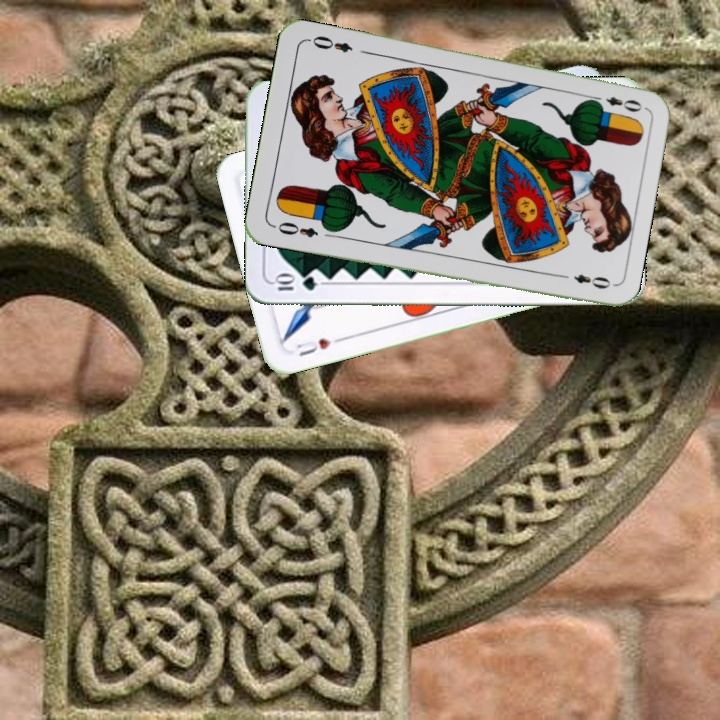EO: (587, 91, 645, 115), (274, 217, 321, 241)
G10: (270, 273, 319, 293)
HU: (292, 333, 345, 359)
